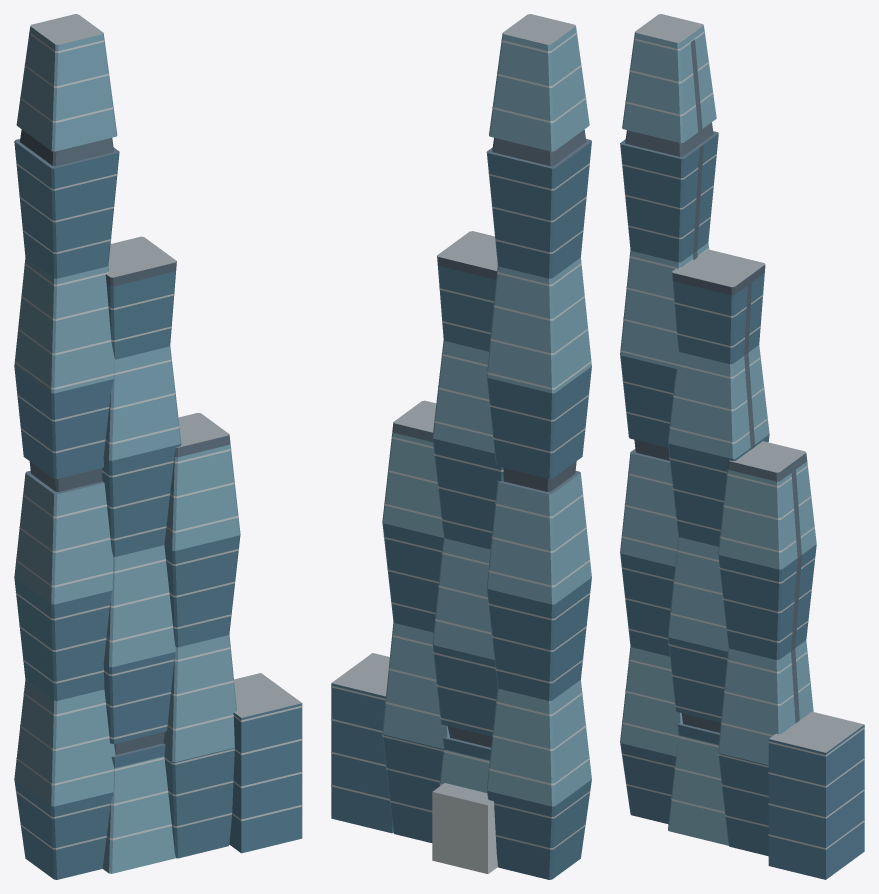
The picture shows the model from 3 angles, left to right: view 1: azimuth 30°, elevation 25°; view 2: azimuth 150°, elevation 25°; view 3: azimuth 330°, elevation 25°; orthographic projection. The views are drawn at different scales.
Visible parts, largest first — view 1: st-regis-chicago; view 2: st-regis-chicago; view 3: st-regis-chicago.
Part boxes in pixels (x1,y1,x2,y2): st-regis-chicago: (14,14,302,879); st-regis-chicago: (331,14,591,879); st-regis-chicago: (620,14,864,879).
Bounding box in the file's own units: 107 × 363 × 46.86.
